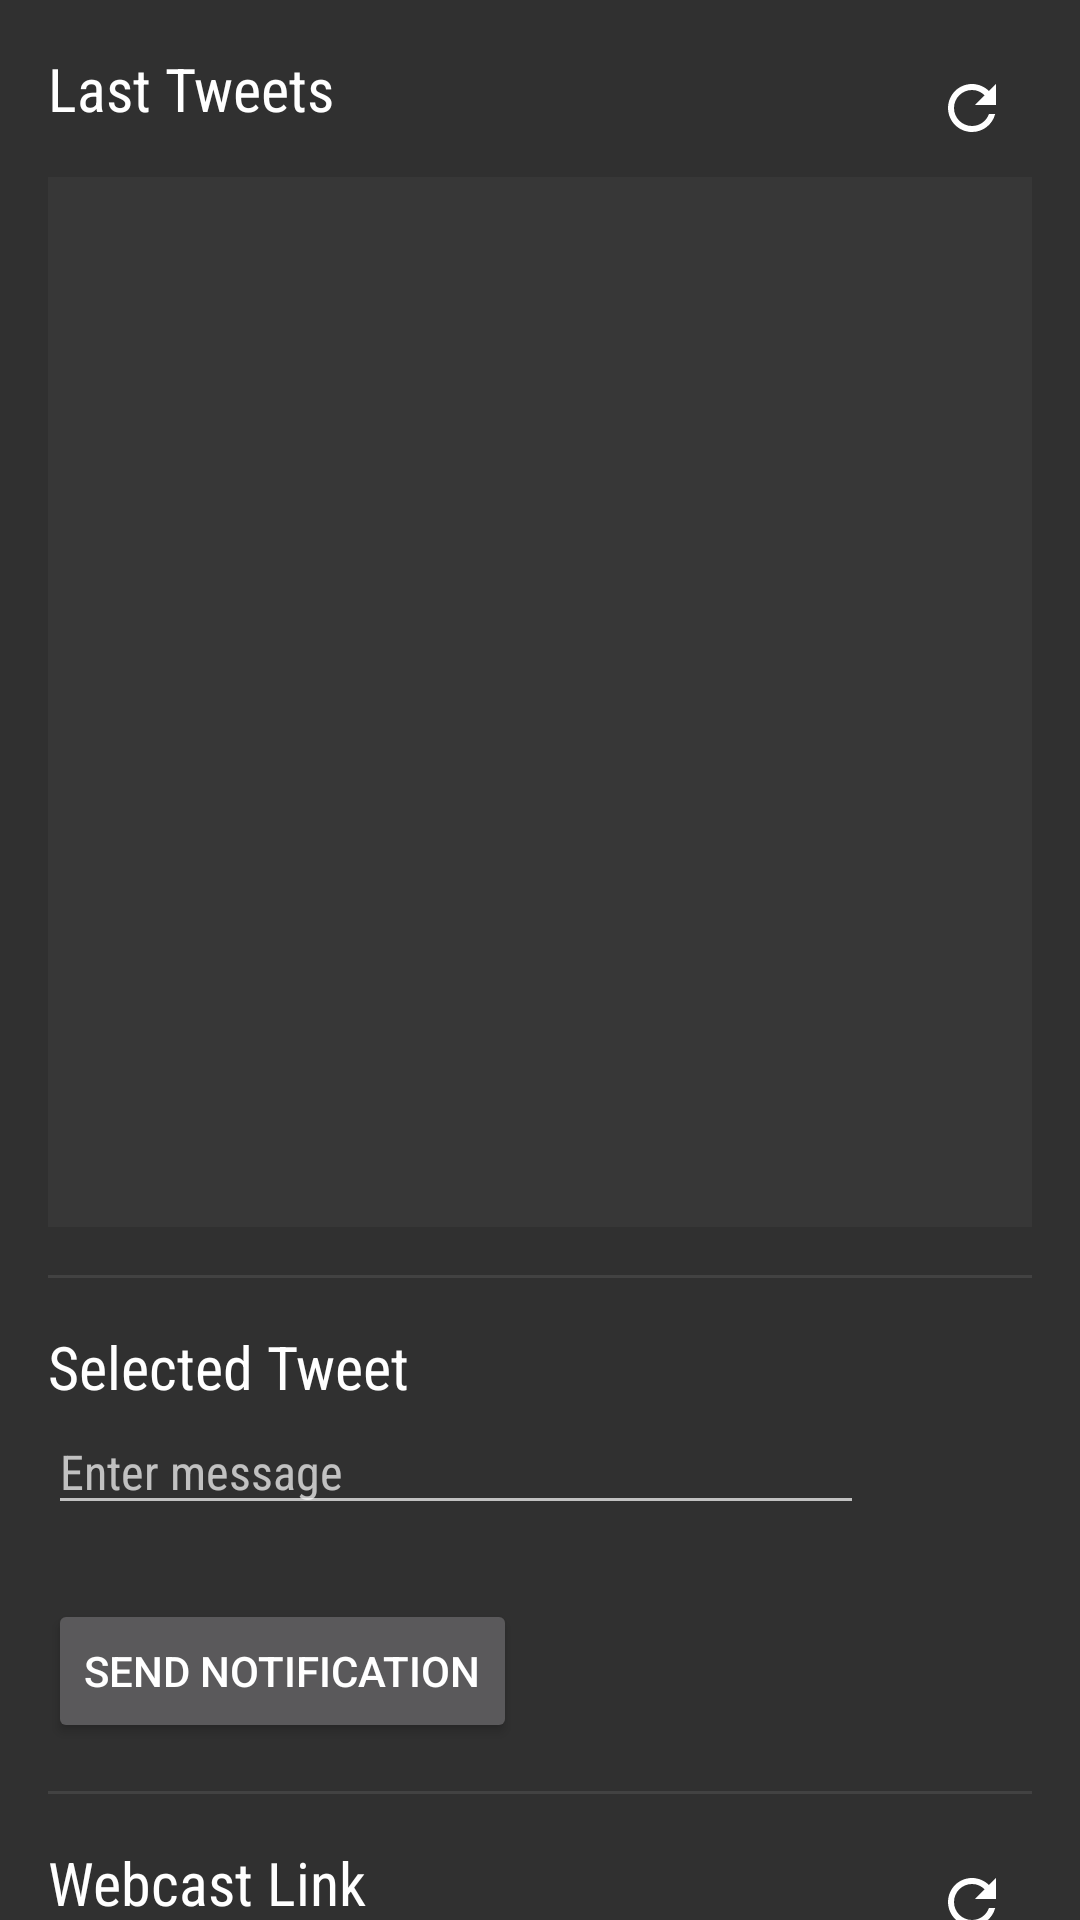

Named icons in this screenshot (1080px x 1920px) and their bounding boxes, (left=x1, top=y1, right=x2, bottom=y2):
Refresh list of tweets: (left=948, top=84, right=996, bottom=132)
